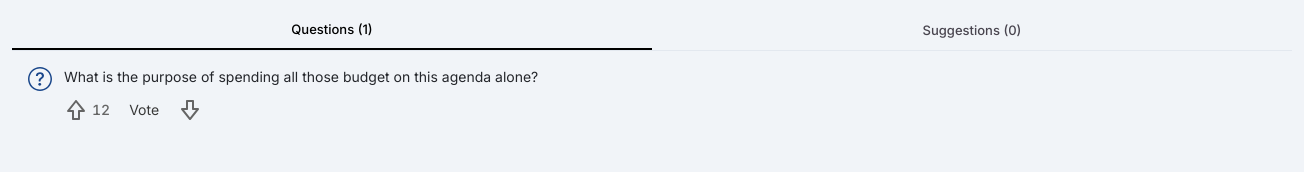
the questions panel › sends a vote and takes the board back
Click the button named "Vote up" at (87, 110), box [64, 98, 110, 122]
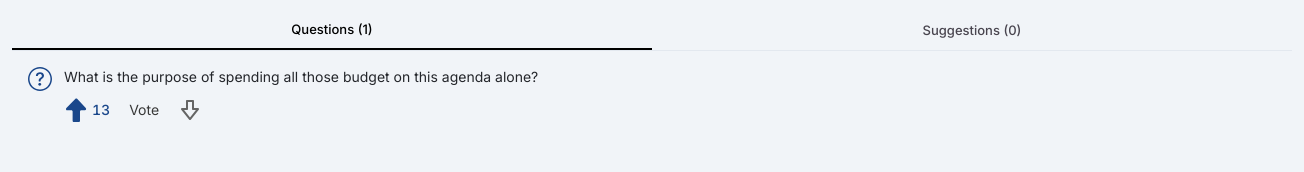
Now the text "13" is shown, box [92, 100, 110, 120]
